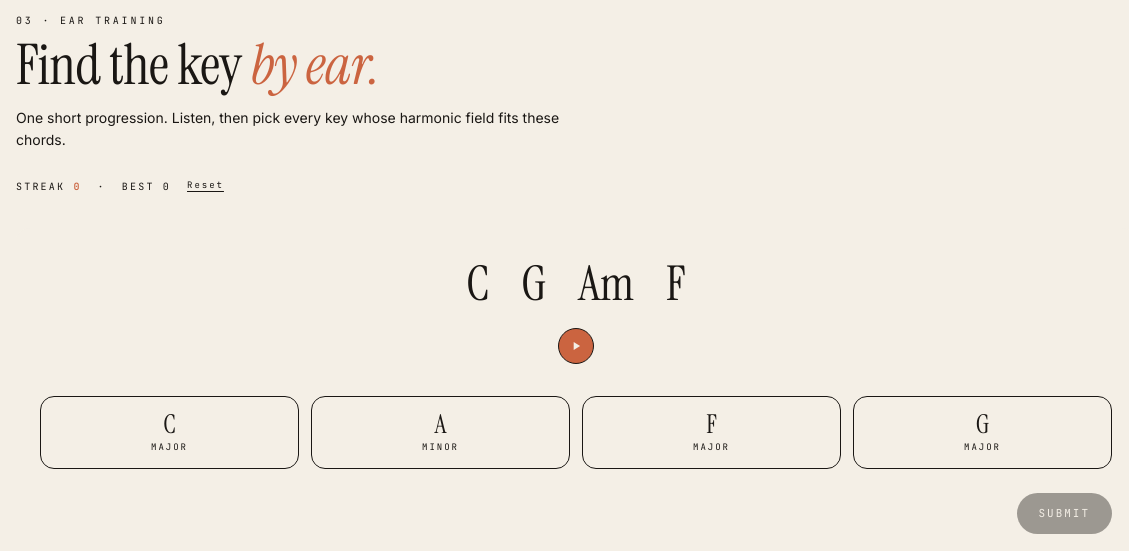
Test: EarTrainingView › Submit is disabled until at least one option is selected
Expected: the button "Submit" is disabled, left=1016, top=493, right=1112, bottom=534
Click the button "C Major" at point(170, 432), box left=40, top=396, right=299, bottom=469
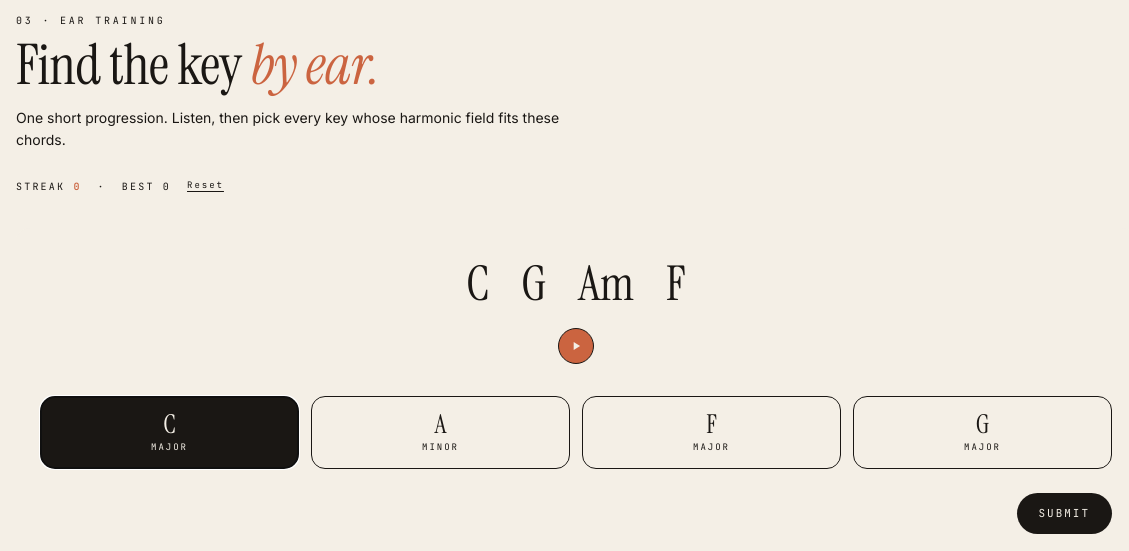
Expected: the button "Submit" is enabled, left=1016, top=493, right=1112, bottom=534
